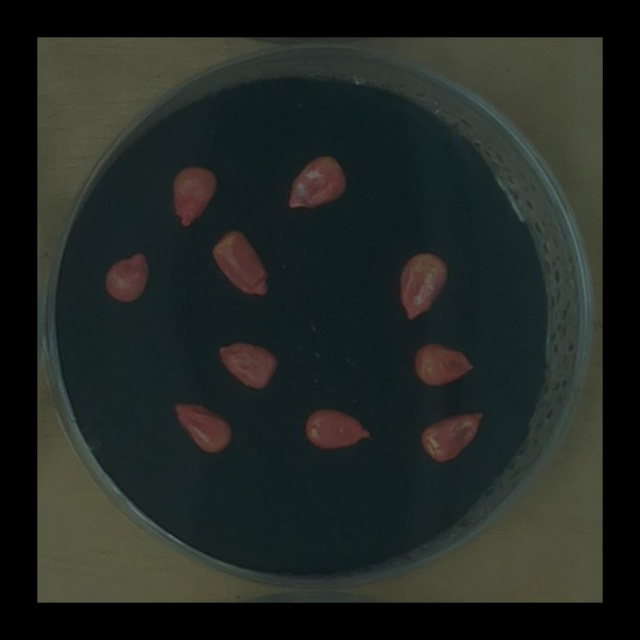Zea mays: (205, 223, 275, 302), (393, 246, 455, 326), (414, 403, 490, 467), (282, 148, 352, 214), (168, 394, 237, 457), (213, 334, 283, 395), (165, 161, 222, 234), (407, 335, 481, 391), (298, 402, 375, 455), (99, 243, 154, 307)
